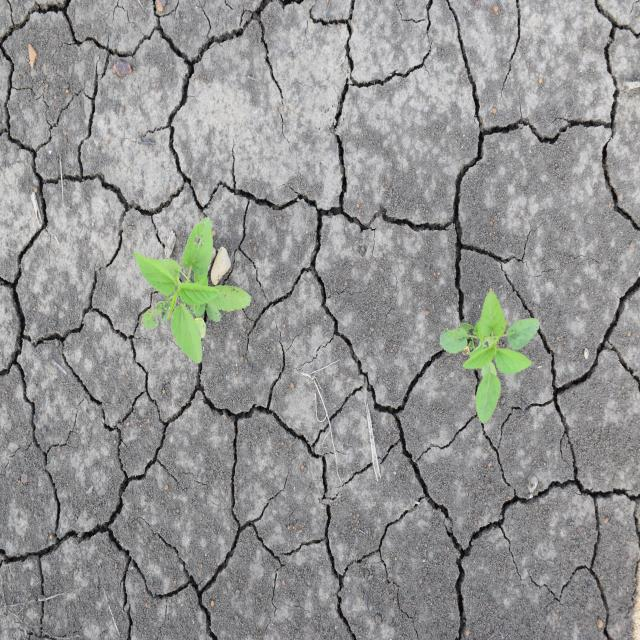PricklySida: (132, 215, 253, 366), (438, 286, 542, 425)
